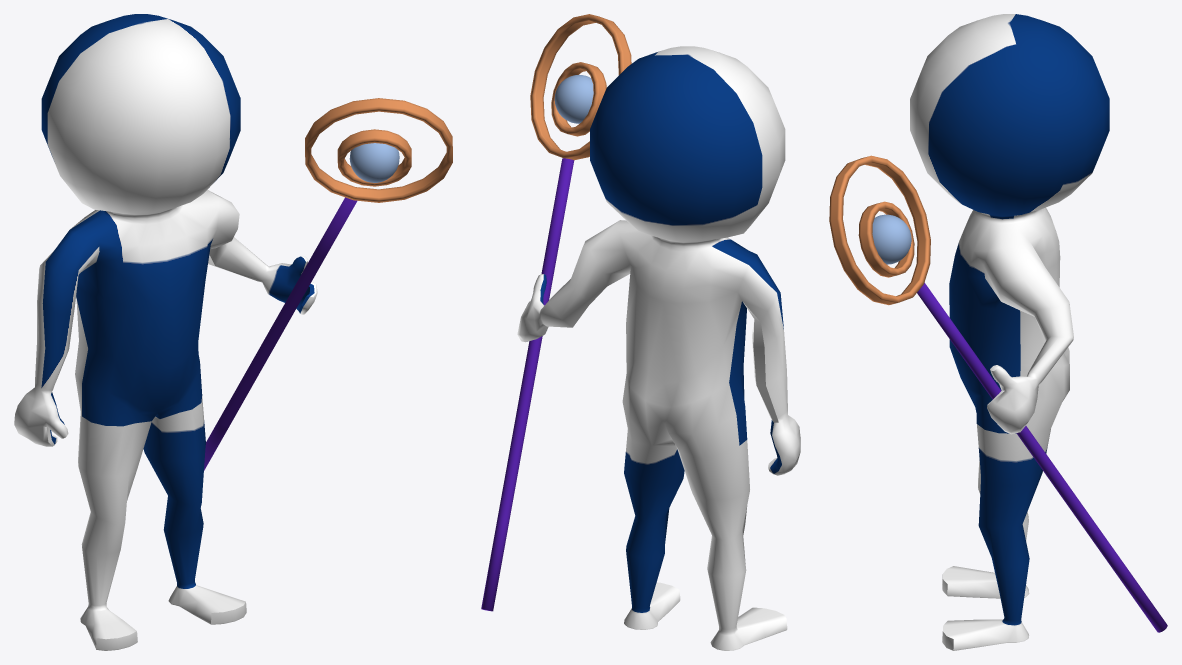
The model's file is finno_sorcerer.obj.
The picture shows the model from 3 angles, left to right: view 1: azimuth 30°, elevation 25°; view 2: azimuth 150°, elevation 25°; view 3: azimuth 270°, elevation 25°; orthographic projection. The views are drawn at different scales.
Parts seen in each view (by area): view 1: Virtual_Man, Tube001, Cylinder001, Tube002, Sphere001; view 2: Virtual_Man, Cylinder001, Tube001, Tube002, Sphere001; view 3: Virtual_Man, Cylinder001, Tube001, Tube002, Sphere001.
Boxes of the visible parts, x1=… form: Virtual_Man: x1=14, y1=14, x2=317, y2=650; Tube001: x1=305, y1=98, x2=452, y2=202; Cylinder001: x1=204, y1=197, x2=357, y2=470; Tube002: x1=337, y1=129, x2=411, y2=186; Sphere001: x1=349, y1=143, x2=399, y2=182; Virtual_Man: x1=517, y1=46, x2=800, y2=650; Cylinder001: x1=481, y1=158, x2=574, y2=611; Tube001: x1=530, y1=14, x2=631, y2=160; Tube002: x1=551, y1=62, x2=606, y2=136; Sphere001: x1=554, y1=74, x2=593, y2=123; Virtual_Man: x1=910, y1=14, x2=1109, y2=650; Cylinder001: x1=917, y1=282, x2=1167, y2=632; Tube001: x1=829, y1=155, x2=930, y2=305; Tube002: x1=858, y1=201, x2=914, y2=277; Sphere001: x1=872, y1=214, x2=911, y2=264.
Size of the model in its own units: 1.3 by 2.08 by 1.08.
